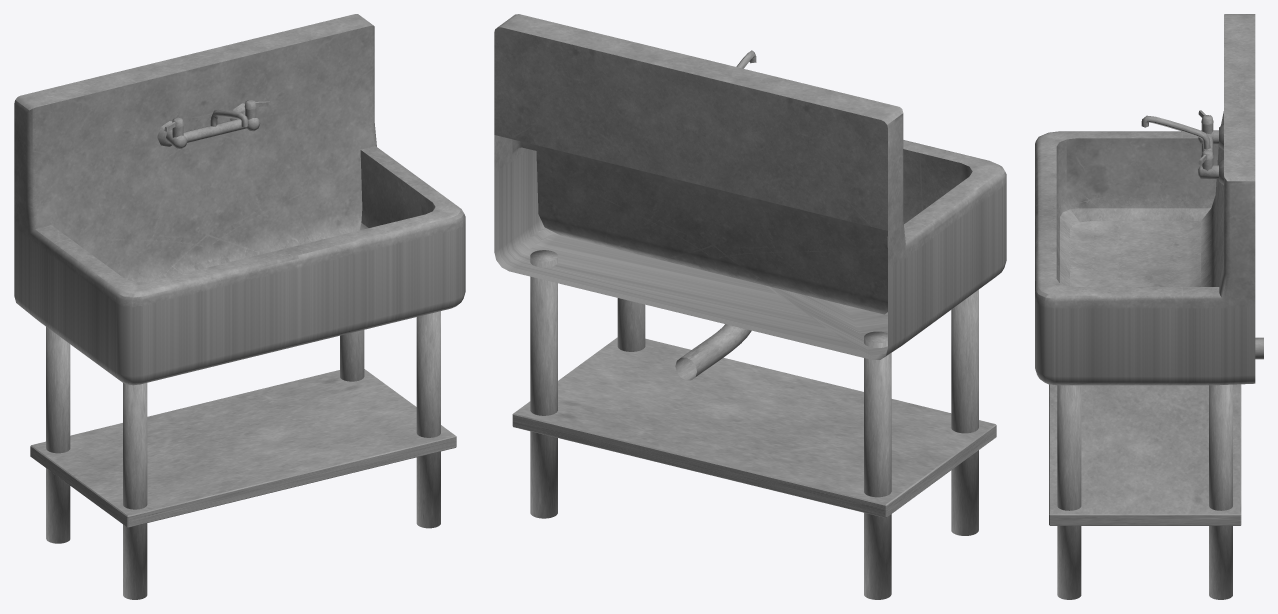
The model's file is SM_Sink.fbx.
3 views of the same model, side by side, from view 1: azimuth 30°, elevation 25°; view 2: azimuth 150°, elevation 25°; view 3: azimuth 270°, elevation 25° (orthographic). The views are drawn at different scales.
Parts seen in each view (by area): view 1: Cylinder; view 2: Cylinder; view 3: Cylinder.
Part boxes in pixels (bbox=[...]): Cylinder: bbox=[14, 14, 465, 599]; Cylinder: bbox=[494, 14, 1006, 599]; Cylinder: bbox=[1035, 14, 1263, 599].
Bounding box in the file's own units: 124 × 149 × 72.11.
